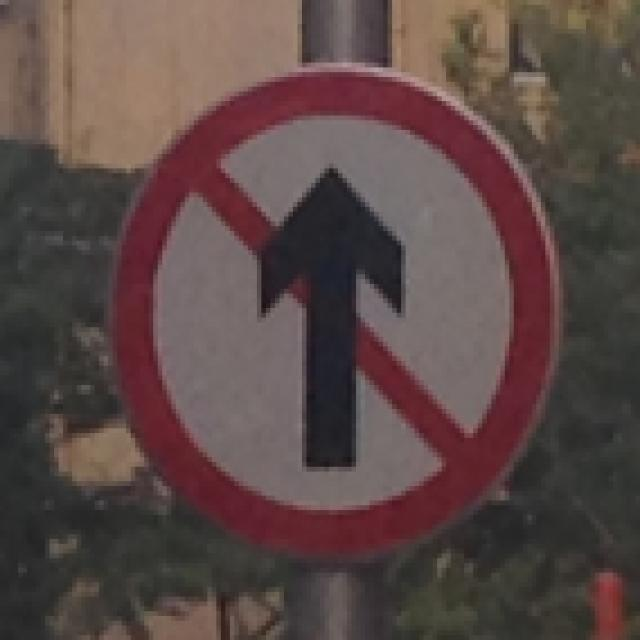Not that Direction: (121, 65, 565, 549)
